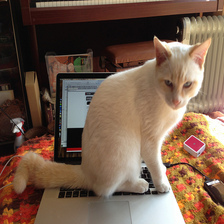laptop: (26, 60, 191, 224)
